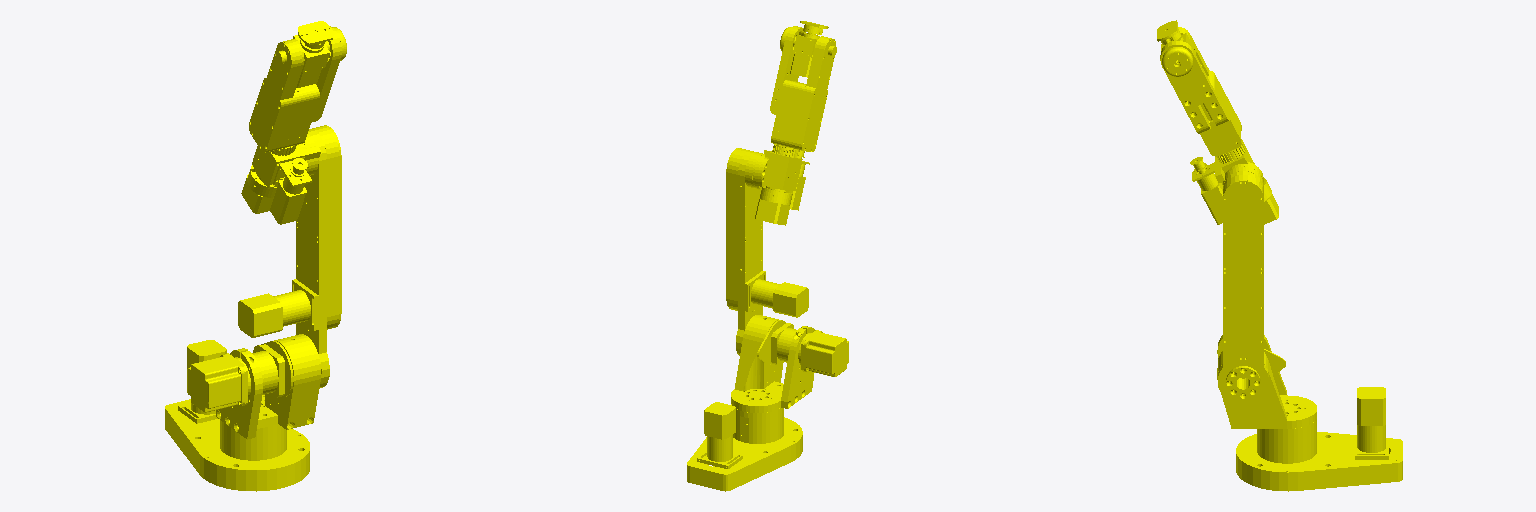
The robot description file, URDF, robot "ar3":
<robot
  name="ar3">
  <link
    name="base_link">
    <inertial>
      <origin
        xyz="-4.6941E-06 0.054174 0.038824"
        rpy="0 0 0" />
      <mass
        value="0.7102" />
      <inertia
        ixx="0.0039943"
        ixy="3.697E-07"
        ixz="-5.7364E-08"
        iyy="0.0014946"
        iyz="-0.00036051"
        izz="0.0042554" />
    </inertial>
    <visual>
      <origin
        xyz="0 0 0"
        rpy="0 0 0" />
      <geometry>
        <mesh
          filename="package://ar3_description/meshes/base_link.STL" />
      </geometry>
      <material
        name="">
        <color
          rgba="1 1 0 1" />
      </material>
    </visual>
    <collision>
      <origin
        xyz="0 0 0"
        rpy="0 0 0" />
      <geometry>
        <mesh
          filename="package://ar3_description/meshes/base_link.STL" />
      </geometry>
    </collision>
  </link>
  <link
    name="link_1">
    <inertial>
      <origin
        xyz="-0.022706 0.04294 -0.12205"
        rpy="0 0 0" />
      <mass
        value="0.88065" />
      <inertia
        ixx="0.0034"
        ixy="0.00042296"
        ixz="-0.00089231"
        iyy="0.0041778"
        iyz="0.0010848"
        izz="0.0027077" />
    </inertial>
    <visual>
      <origin
        xyz="0 0 0"
        rpy="0 0 0" />
      <geometry>
        <mesh
          filename="package://ar3_description/meshes/link_1.STL" />
      </geometry>
      <material
        name="">
        <color
          rgba="1 1 0 1" />
      </material>
    </visual>
    <collision>
      <origin
        xyz="0 0 0"
        rpy="0 0 0" />
      <geometry>
        <mesh
          filename="package://ar3_description/meshes/link_1.STL" />
      </geometry>
    </collision>
  </link>
  <joint
    name="joint_1"
    type="continuous">
    <origin
      xyz="0 0 0.003445"
      rpy="3.1416 -1.0248E-21 -1.6736E-05" />
    <parent
      link="base_link" />
    <child
      link="link_1" />
    <axis
      xyz="0 0 1" />
  </joint>
  <link
    name="link_2">
    <inertial>
      <origin
        xyz="0.064818 -0.11189 -0.038671"
        rpy="0 0 0" />
      <mass
        value="0.57738" />
      <inertia
        ixx="0.0047312"
        ixy="0.0022624"
        ixz="0.00032144"
        iyy="0.0020836"
        iyz="-0.00056569"
        izz="0.0056129" />
    </inertial>
    <visual>
      <origin
        xyz="0 0 0"
        rpy="0 0 0" />
      <geometry>
        <mesh
          filename="package://ar3_description/meshes/link_2.STL" />
      </geometry>
      <material
        name="">
        <color
          rgba="1 1 0 1" />
      </material>
    </visual>
    <collision>
      <origin
        xyz="0 0 0"
        rpy="0 0 0" />
      <geometry>
        <mesh
          filename="package://ar3_description/meshes/link_2.STL" />
      </geometry>
    </collision>
  </link>
  <joint
    name="joint_2"
    type="continuous">
    <origin
      xyz="0 0.064146 -0.16608"
      rpy="1.5708 0.5236 -1.5708" />
    <parent
      link="link_1" />
    <child
      link="link_2" />
    <axis
      xyz="0 0 -1" />
  </joint>
  <link
    name="link_3">
    <inertial>
      <origin
        xyz="-0.00029765 -0.023661 -1.04720367321"
        rpy="0 0 0" />
      <mass
        value="0.1787" />
      <inertia
        ixx="0.0001685"
        ixy="-2.7713E-05"
        ixz="5.6885E-06"
        iyy="0.00012865"
        iyz="2.9256E-05"
        izz="0.00020744" />
    </inertial>
    <visual>
      <origin
        xyz="0 0 0"
        rpy="0 0 0" />
      <geometry>
        <mesh
          filename="package://ar3_description/meshes/link_3.STL" />
      </geometry>
      <material
        name="">
        <color
          rgba="1 1 0 1" />
      </material>
    </visual>
    <collision>
      <origin
        xyz="0 0 0"
        rpy="0 0 0" />
      <geometry>
        <mesh
          filename="package://ar3_description/meshes/link_3.STL" />
      </geometry>
    </collision>
  </link>
  <joint
    name="joint_3"
    type="continuous">
    <origin
      xyz="0.1525 -0.26414 0"
      rpy="3.3431E-16 -1.4164E-16 -1.4953816339" />
    <parent
      link="link_2" />
    <child
      link="link_3" />
    <axis
      xyz="0 0 -1" />
  </joint>
  <link
    name="link_4">
    <inertial>
      <origin
        xyz="-0.0016798 -0.00057319 -0.074404"
        rpy="0 0 0" />
      <mass
        value="0.34936" />
      <inertia
        ixx="0.0030532"
        ixy="-1.8615E-05"
        ixz="-7.0047E-05"
        iyy="0.0031033"
        iyz="-2.3301E-05"
        izz="0.00022264" />
    </inertial>
    <visual>
      <origin
        xyz="0 0 0"
        rpy="0 0 0" />
      <geometry>
        <mesh
          filename="package://ar3_description/meshes/link_4.STL" />
      </geometry>
      <material
        name="">
        <color
          rgba="1 1 0 1" />
      </material>
    </visual>
    <collision>
      <origin
        xyz="0 0 0"
        rpy="0 0 0" />
      <geometry>
        <mesh
          filename="package://ar3_description/meshes/link_4.STL" />
      </geometry>
    </collision>
  </link>
  <joint
    name="joint_4"
    type="continuous">
    <origin
      xyz="0 0 0.00675"
      rpy="1.5708 -1.2554 -1.5708" />
    <parent
      link="link_3" />
    <child
      link="link_4" />
    <axis
      xyz="0 0 -1" />
  </joint>
  <link
    name="link_5">
    <inertial>
      <origin
        xyz="0.0015066 -1.3102E-05 -0.012585"
        rpy="0 0 0" />
      <mass
        value="0.11562" />
      <inertia
        ixx="5.5035E-05"
        ixy="-1.019E-08"
        ixz="-2.6243E-06"
        iyy="8.2921E-05"
        iyz="1.4437E-08"
        izz="5.2518E-05" />
    </inertial>
    <visual>
      <origin
        xyz="0 0 0"
        rpy="0 0 0" />
      <geometry>
        <mesh
          filename="package://ar3_description/meshes/link_5.STL" />
      </geometry>
      <material
        name="">
        <color
          rgba="1 1 0 1" />
      </material>
    </visual>
    <collision>
      <origin
        xyz="0 0 0"
        rpy="0 0 0" />
      <geometry>
        <mesh
          filename="package://ar3_description/meshes/link_5.STL" />
      </geometry>
    </collision>
  </link>
  <joint
    name="joint_5"
    type="continuous">
    <origin
      xyz="0 0 -0.22225"
      rpy="3.1416 0 -2.8262" />
    <parent
      link="link_4" />
    <child
      link="link_5" />
    <axis
      xyz="-1 0 0" />
  </joint>
  <link
    name="link_6">
    <inertial>
      <origin
        xyz="2.9287E-10 -1.6472E-09 0.0091432"
        rpy="0 0 0" />
      <mass
        value="0.013863" />
      <inertia
        ixx="1.3596E-06"
        ixy="3.0585E-13"
        ixz="5.7102E-14"
        iyy="1.7157E-06"
        iyz="6.3369E-09"
        izz="2.4332E-06" />
    </inertial>
    <visual>
      <origin
        xyz="0 0 0"
        rpy="0 0 0" />
      <geometry>
        <mesh
          filename="package://ar3_description/meshes/link_6.STL" />
      </geometry>
      <material
        name="">
        <color
          rgba="1 1 0 1" />
      </material>
    </visual>
    <collision>
      <origin
        xyz="0 0 0"
        rpy="0 0 0" />
      <geometry>
        <mesh
          filename="package://ar3_description/meshes/link_6.STL" />
      </geometry>
    </collision>
  </link>
  <joint
    name="joint_6"
    type="continuous">
    <origin
      xyz="-0.000294 0 0.02117"
      rpy="0 0 3.1416" />
    <parent
      link="link_5" />
    <child
      link="link_6" />
    <axis
      xyz="0 0 1" />
  </joint>
</robot>

--- What the picture shows (computed from the rendered views, not written in the file) ---
The picture shows the robot from 3 angles, left to right: view 1: azimuth 30°, elevation 25°; view 2: azimuth 150°, elevation 25°; view 3: azimuth 270°, elevation 25°; orthographic projection.
Robot: ar3 — 7 links, 6 joints (6 continuous); root link base_link; default pose: all joints at 0.
Links seen in each view (by area): view 1: link_2, link_1, base_link, link_4, link_3, link_5, link_6; view 2: link_2, link_1, base_link, link_4, link_3, link_5; view 3: base_link, link_2, link_4, link_1, link_3, link_5.
Link boxes in pixels (box(x1,y1,x2,y2)): link_2: box(238, 125, 341, 396); link_1: box(187, 334, 320, 439); base_link: box(165, 340, 309, 491); link_4: box(241, 26, 341, 213); link_3: box(252, 143, 320, 224); link_5: box(276, 27, 346, 87); link_6: box(298, 21, 333, 48); link_2: box(726, 148, 808, 364); link_1: box(731, 315, 848, 412); base_link: box(687, 402, 802, 491); link_4: box(755, 26, 835, 225); link_3: box(753, 150, 809, 210); link_5: box(780, 27, 836, 77); base_link: box(1236, 387, 1402, 491); link_2: box(1218, 167, 1285, 404); link_4: box(1160, 27, 1278, 224); link_1: box(1217, 335, 1316, 428); link_3: box(1190, 149, 1263, 224); link_5: box(1161, 30, 1195, 76).
Size in the robot's own frame: 0.2019 by 0.361 by 0.7153 metres.
7 mesh visuals loaded from 7 distinct referenced files (7 binary STL).